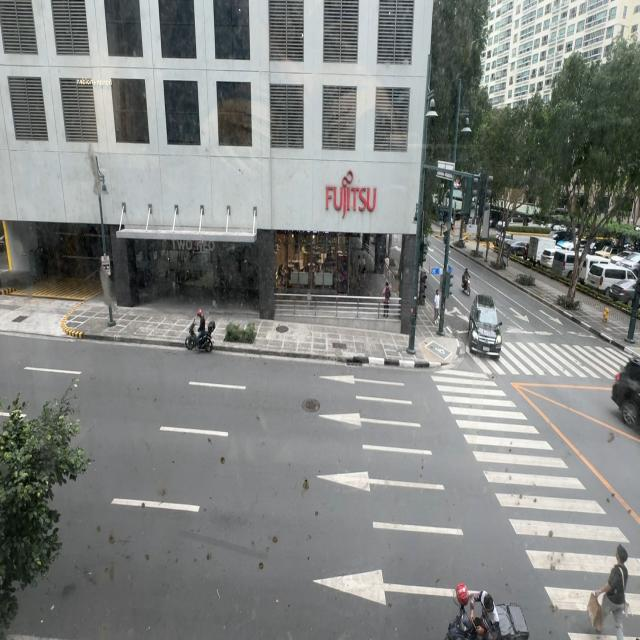crossing: (594, 542, 627, 636)
pedestrain: (434, 289, 440, 324)
